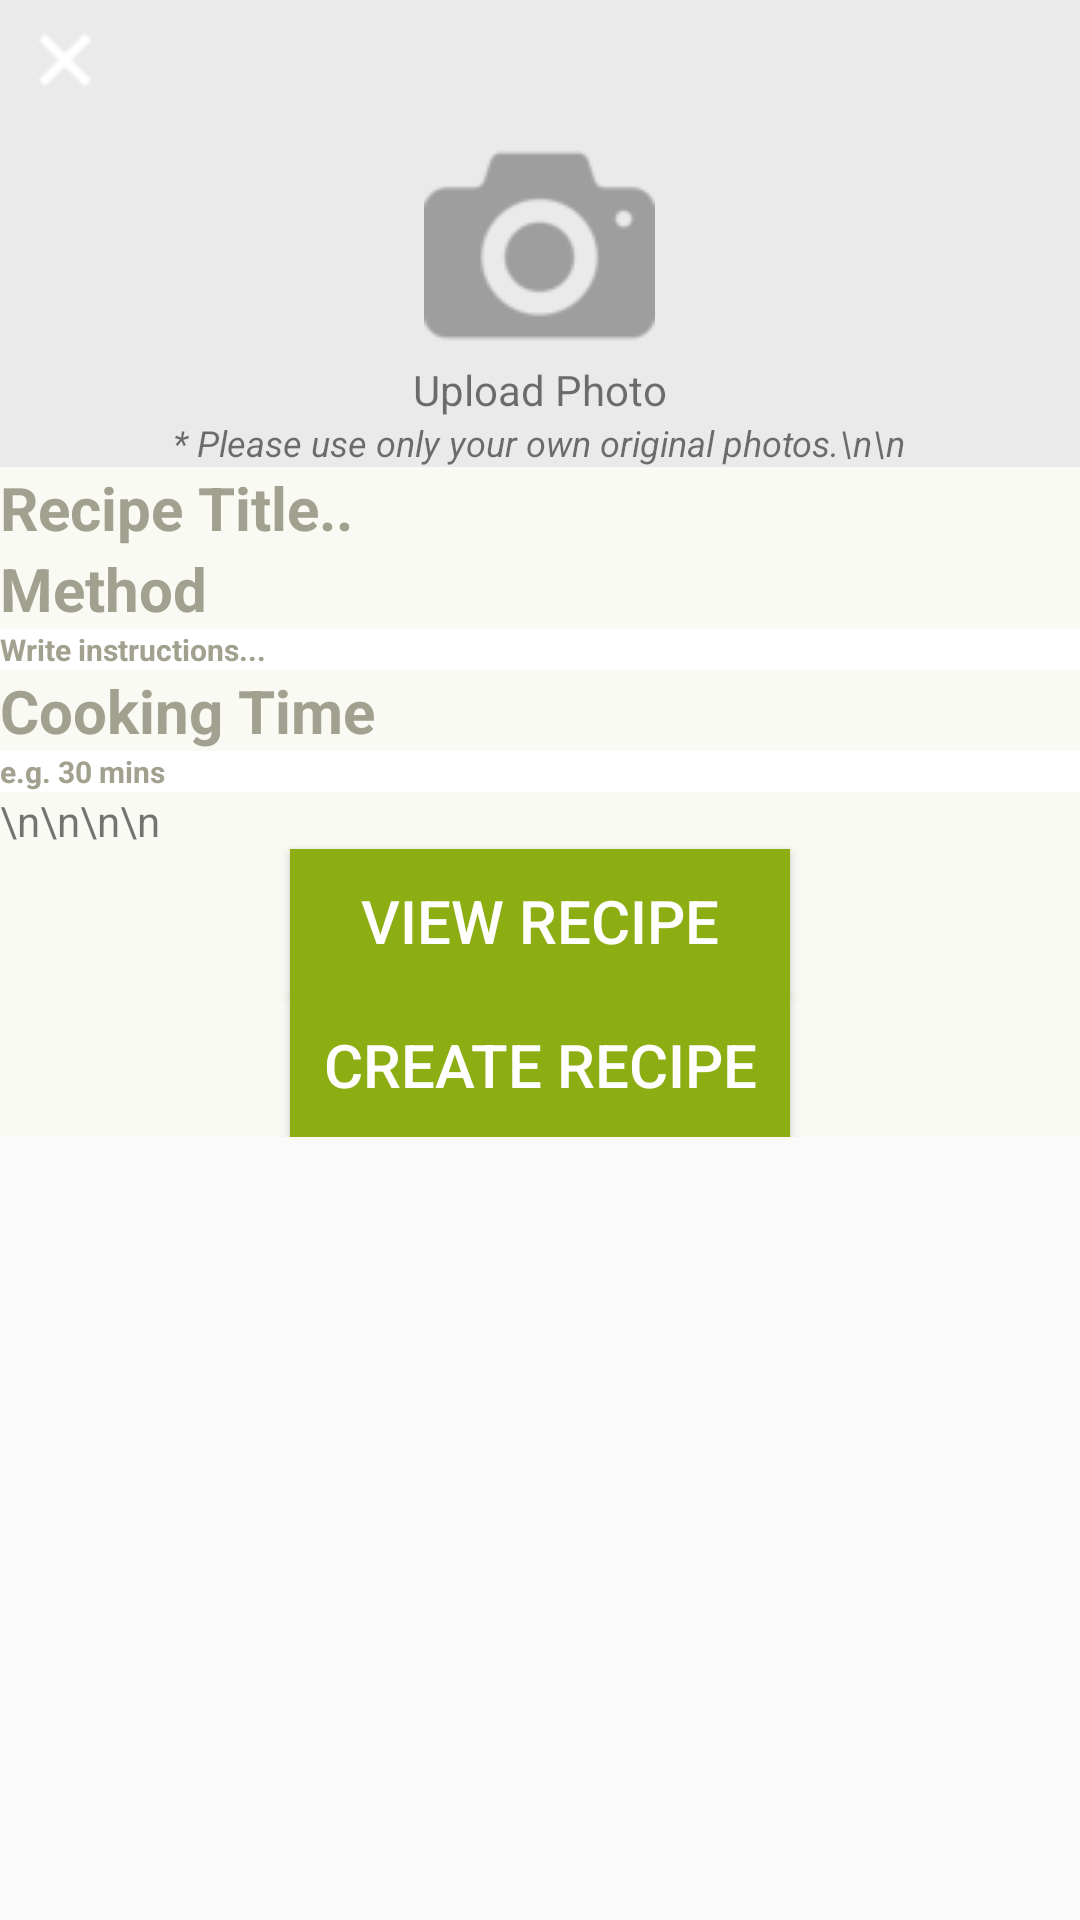

Named icons in this screenshot (1080x1920) and their bounding boxes, (left=x1, top=y1, right=x2, bottom=y2):
camera: (left=424, top=152, right=655, bottom=339)
